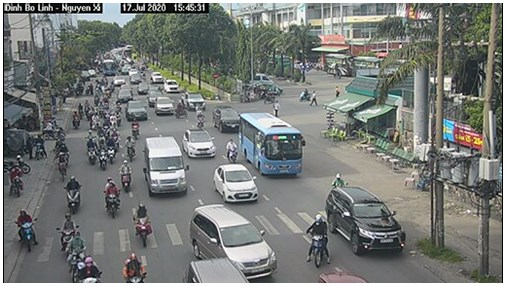xe_buyt: (238, 113, 306, 178)
xe_dap: (53, 151, 67, 181)
xe_hoi: (190, 205, 279, 278), (326, 188, 406, 254), (214, 165, 260, 204), (182, 128, 217, 159), (126, 99, 150, 120)
xe_khach: (144, 137, 189, 197)
xe_may: (304, 212, 332, 266), (130, 198, 153, 248), (14, 206, 39, 251), (65, 229, 84, 282), (102, 175, 121, 220), (120, 253, 148, 283), (61, 175, 83, 213), (56, 212, 76, 250), (78, 254, 102, 283), (119, 157, 134, 191), (124, 133, 140, 162), (225, 136, 240, 164), (98, 142, 108, 172)
